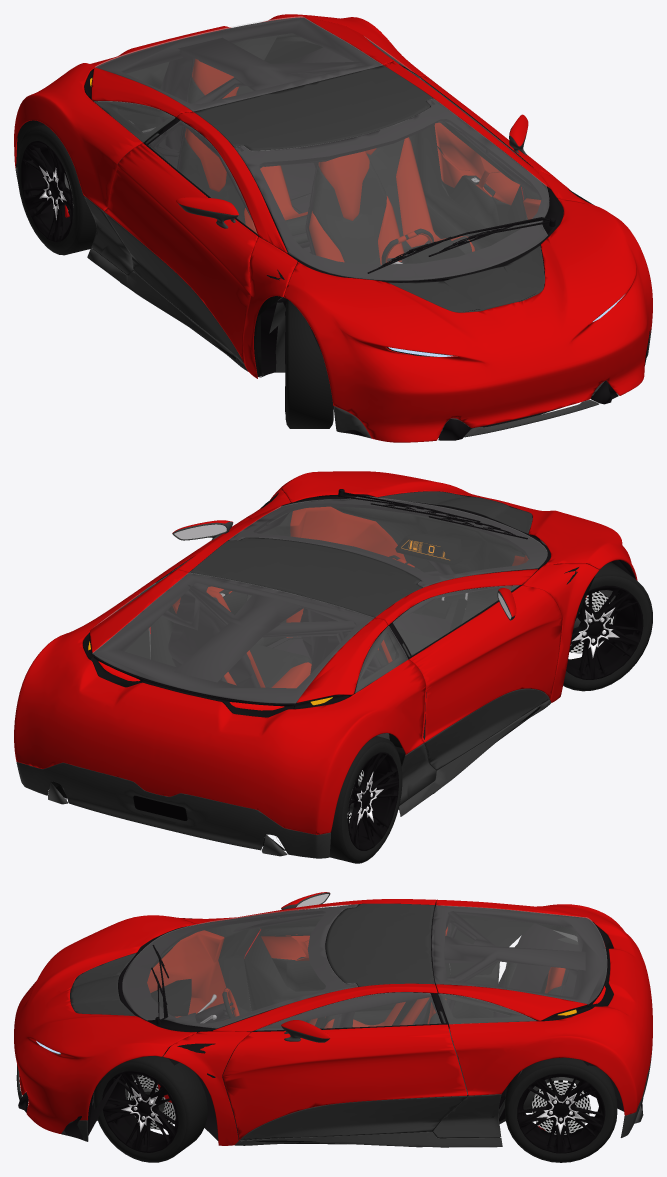
Rendered from veh_car2_concept.glb.
3 views of the same model, one above another, from view 1: azimuth 30°, elevation 25°; view 2: azimuth 150°, elevation 25°; view 3: azimuth 270°, elevation 25° (orthographic). The views are drawn at different scales.
Parts seen in each view (by area): view 1: BodyHood, BodyWindshield, BodyRearwindow, BodyDoorRColor1, BodyRearPanelsColor1, BodyRoofPanel, BodyWindshieldGasket, InteriorSeatsColor1, InteriorSeatsColor2, BodyPillars, InteriorPillar, InteriorRearHatch (+21 smaller); view 2: BodyRearPanelsColor1, BodyRearwindow, BodyWindshield, BodyDoorRColor1, BodyPanelsColor2, BodyRoofPanel, BodyHood, InteriorRearHatch, InteriorPillar, BodyPillars, InteriorDashMid, BodyWindshieldGasket (+22 smaller); view 3: BodyRearPanelsColor1, BodyWindshield, BodyDoorLColor1, BodyHood, BodyRearwindow, BodyRoofPanel, BodyPillars, BodyWindshieldGasket, BodyDoorLColor2, BodyPanelsColor2, InteriorRearHatch, WheelFrontL (+25 smaller).
Boxes of the visible parts, x1,y1,x2,y2 form: BodyHood: (283,198,652,442); BodyWindshield: (234,98,548,280); BodyRearwindow: (95,16,382,111); BodyDoorRColor1: (104,143,257,363); BodyRearPanelsColor1: (14,14,429,211); BodyRoofPanel: (194,65,432,150); BodyWindshieldGasket: (234,99,563,282); InteriorSeatsColor1: (185,58,474,264); InteriorSeatsColor2: (180,78,472,264); BodyPillars: (176,61,599,378); InteriorPillar: (159,37,434,168); InteriorRearHatch: (96,17,382,116); BodyRearPanelsColor1: (14,569,425,834); BodyRearwindow: (92,573,373,703); BodyWindshield: (229,497,547,587); BodyDoorRColor1: (409,585,562,742); BodyPanelsColor2: (16,700,550,858); BodyRoofPanel: (189,537,422,617); BodyHood: (279,471,637,580); InteriorRearHatch: (93,573,386,707); InteriorPillar: (174,575,417,682); BodyPillars: (175,489,599,702); InteriorDashMid: (331,503,525,623); BodyWindshieldGasket: (230,496,550,587); BodyRearPanelsColor1: (436,899,652,1115); BodyWindshield: (122,904,357,1028); BodyDoorLColor1: (222,1024,467,1139); BodyHood: (14,915,196,1133); BodyRearwindow: (432,905,606,1003); BodyRoofPanel: (326,903,434,986); BodyPillars: (163,899,437,1145); BodyWindshieldGasket: (118,905,357,1032); BodyDoorLColor2: (240,1096,467,1140); BodyPanelsColor2: (16,1050,652,1147); InteriorRearHatch: (432,905,606,1020); WheelFrontL: (93,1054,207,1162).
Bounding box in the file's own units: 2.54 × 1.15 × 4.36.
23 materials, 2 textured.
